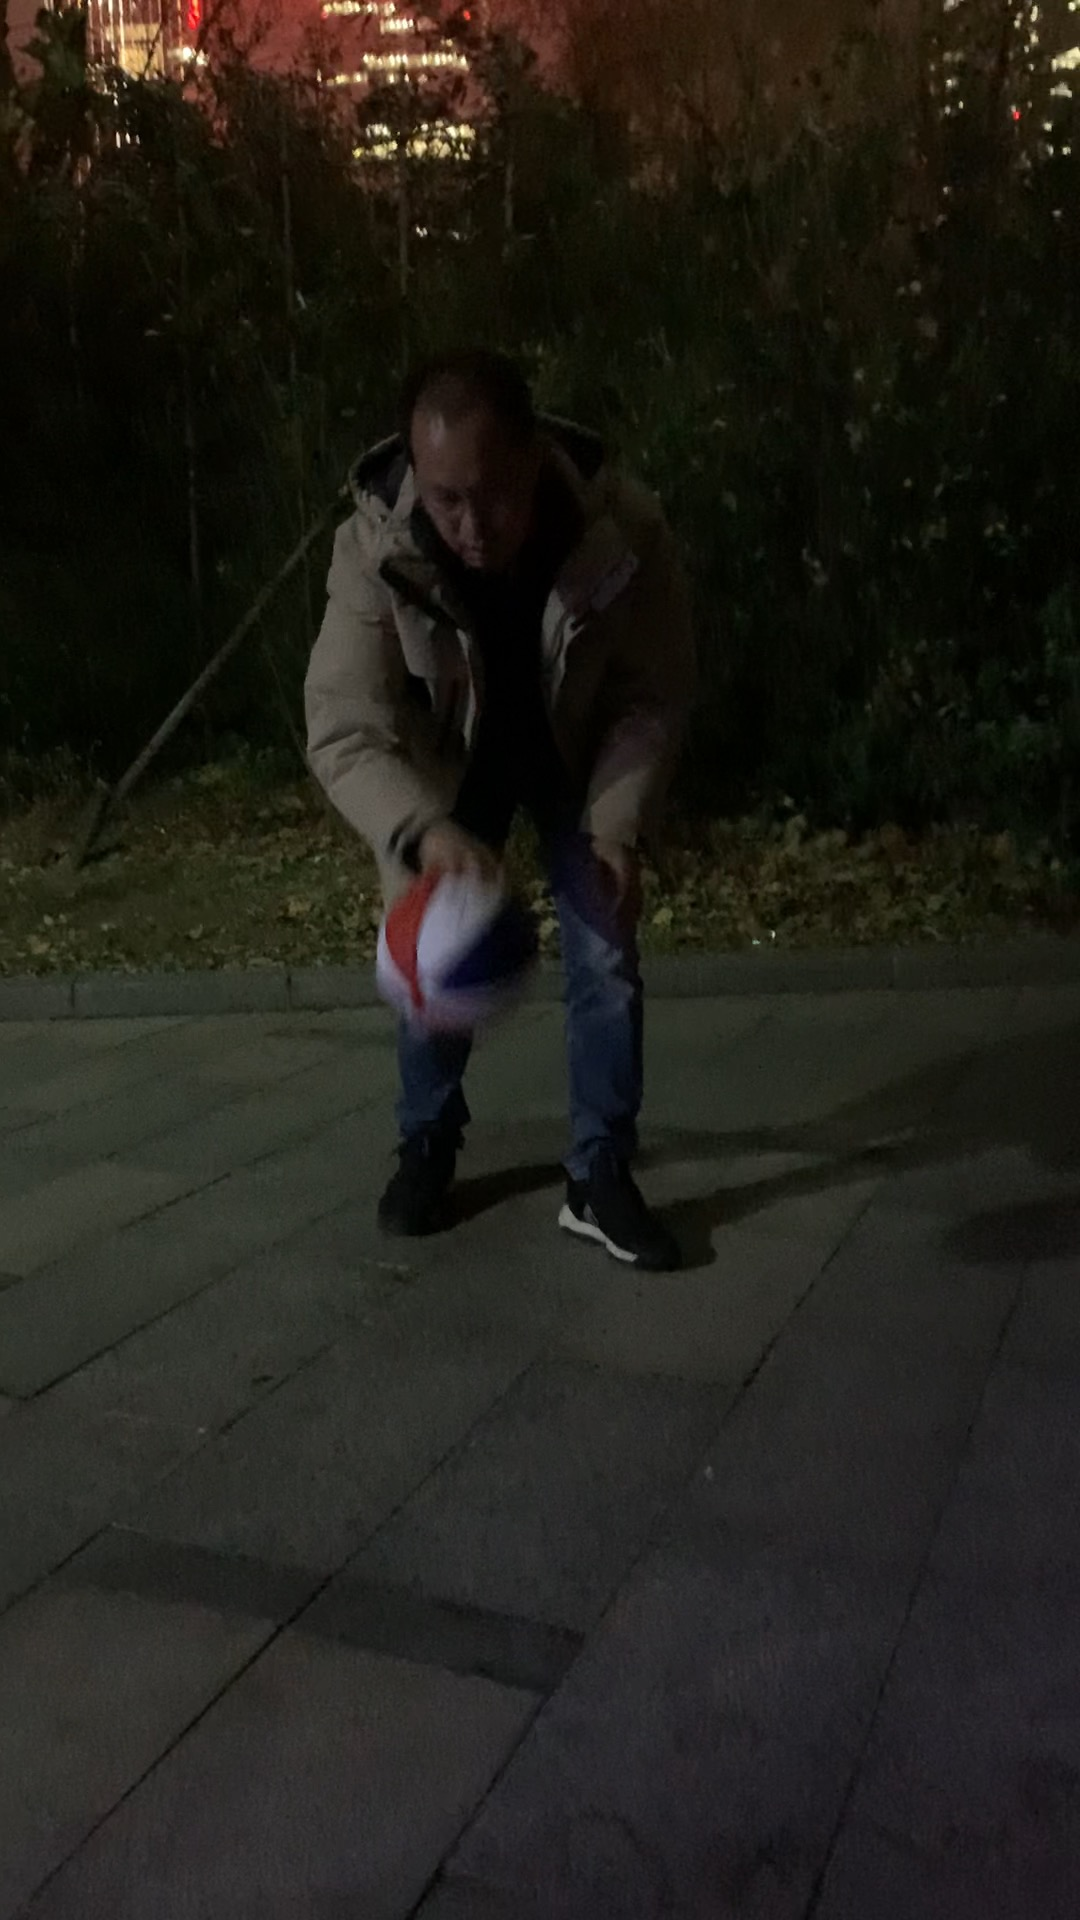ball: (375, 870, 542, 1035)
